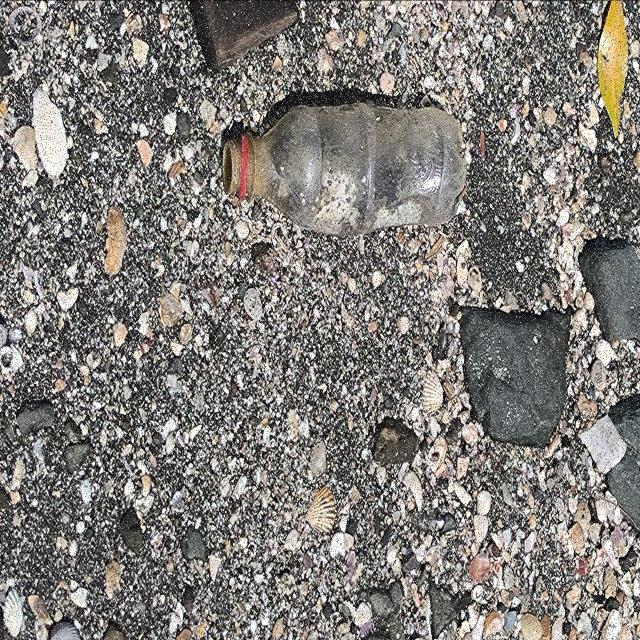plastic_waste: (221, 99, 469, 240)
